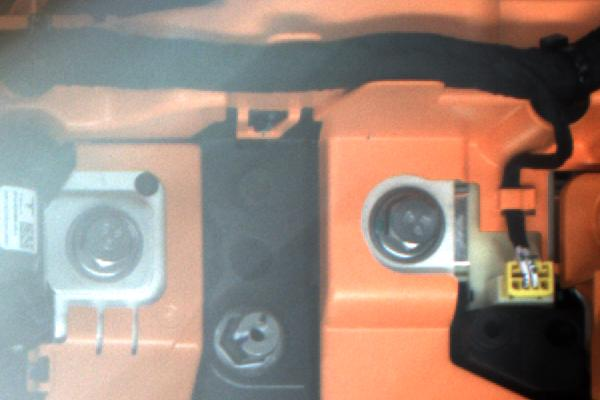nut_b: (358, 181, 452, 267), (62, 205, 150, 282)
